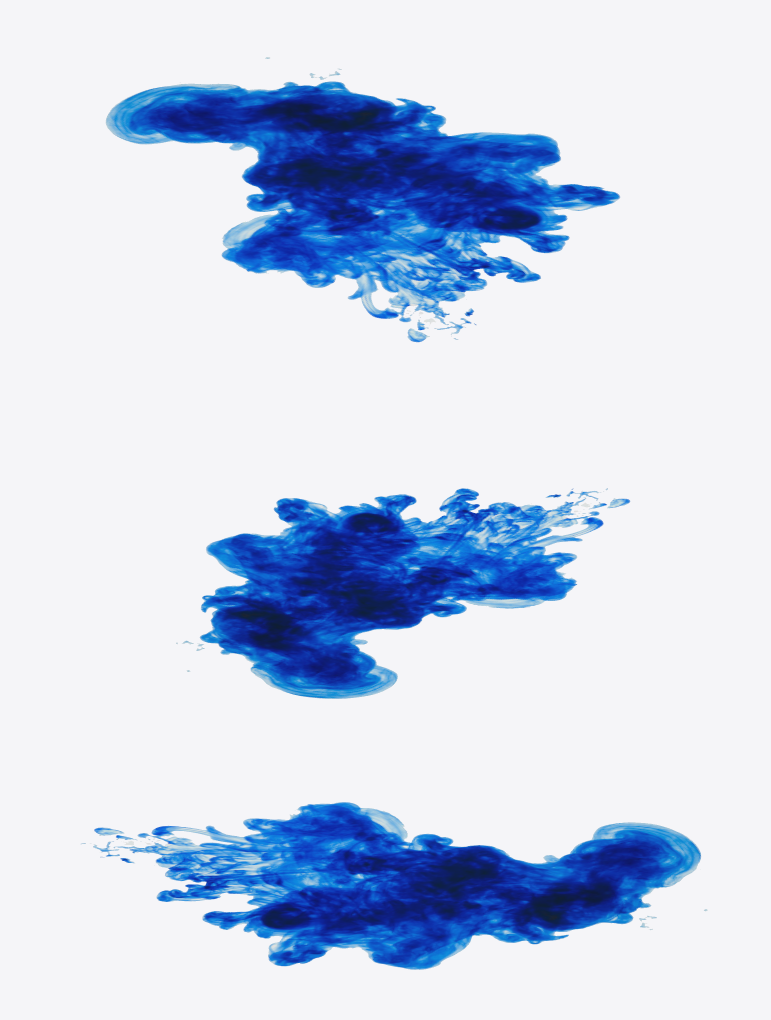
The model's file is mancha_piso_1.fbx.
3 views of the same model, one above another, from view 1: azimuth 30°, elevation 25°; view 2: azimuth 150°, elevation 25°; view 3: azimuth 270°, elevation 25° (orthographic). The views are drawn at different scales.
Parts seen in each view (by area): view 1: mancha; view 2: mancha; view 3: mancha.
Part boxes in pixels (bbox=[...]): mancha: bbox=[105, 57, 620, 342]; mancha: bbox=[176, 488, 630, 698]; mancha: bbox=[80, 802, 707, 969].
Bounding box in the file's own units: 0.3632 × 0 × 0.4737.
1 material, 1 textured.
